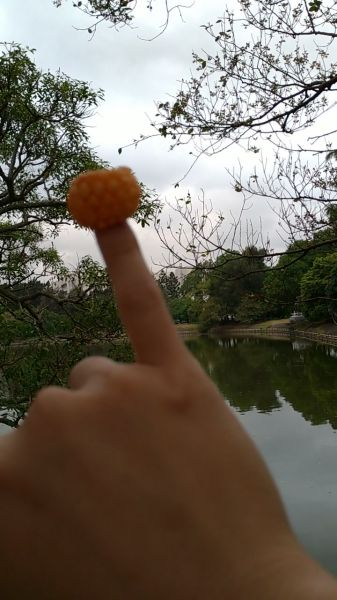eggs: (66, 166, 142, 229)
